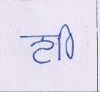i_matra: (61, 23, 75, 58)
